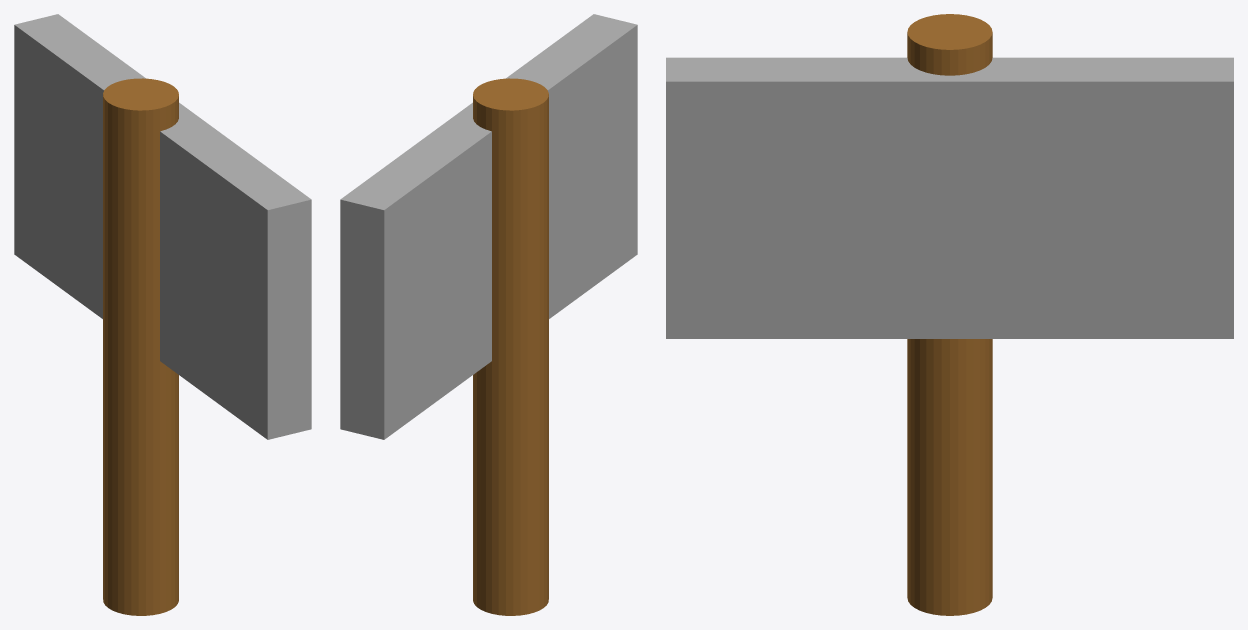
Rendered from Tower Place.fbx.
The picture shows the model from 3 angles, left to right: view 1: azimuth 30°, elevation 25°; view 2: azimuth 150°, elevation 25°; view 3: azimuth 270°, elevation 25°; orthographic projection. The views are drawn at different scales.
Parts seen in each view (by area): view 1: Cartell, Pal cartell; view 2: Cartell, Pal cartell; view 3: Cartell, Pal cartell.
Boxes of the visible parts, box(x1,y1,x2,y2) form: Cartell: box(14, 14, 311, 439); Pal cartell: box(103, 78, 178, 615); Cartell: box(340, 14, 637, 439); Pal cartell: box(473, 78, 548, 615); Cartell: box(666, 57, 1233, 338); Pal cartell: box(907, 14, 992, 615).
Size of what is drawn, in the model's own units: 0.525 by 3.3 by 3.
